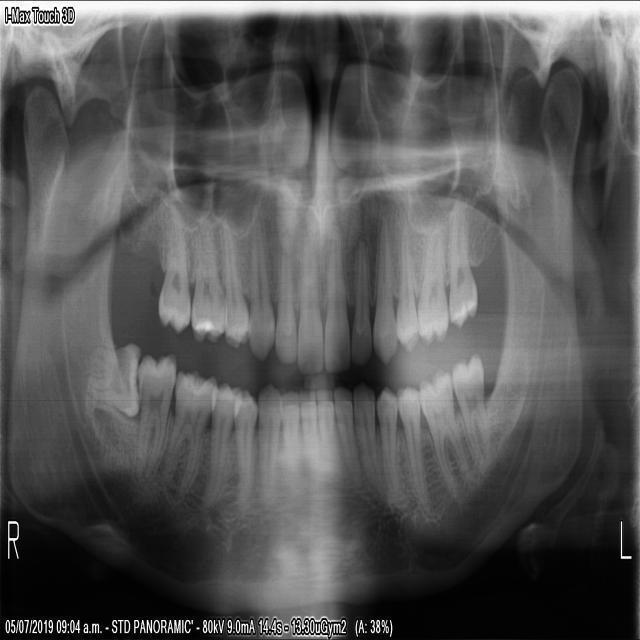LCD: (350, 376, 380, 497)
LCU: (369, 211, 398, 367)
LID: (330, 381, 361, 490), (312, 382, 337, 508)
LIU: (321, 218, 348, 374), (347, 227, 371, 363)
LMD: (415, 363, 468, 492), (448, 348, 490, 475)
LMU: (413, 216, 448, 346), (445, 195, 478, 330)
LPMD: (394, 381, 431, 516), (372, 380, 396, 500)
LPMU: (391, 216, 418, 355)
RCD: (254, 380, 281, 505)
RCU: (244, 204, 274, 364)
RID: (276, 384, 299, 508), (295, 384, 320, 498)
RIU: (293, 224, 323, 375), (271, 224, 296, 365)
RMD: (157, 363, 215, 496), (133, 347, 175, 484), (80, 337, 140, 420)
RMU: (187, 207, 226, 344), (153, 199, 189, 337)
RPMD: (199, 377, 240, 505), (230, 384, 257, 503)
RPMU: (218, 213, 250, 351)
